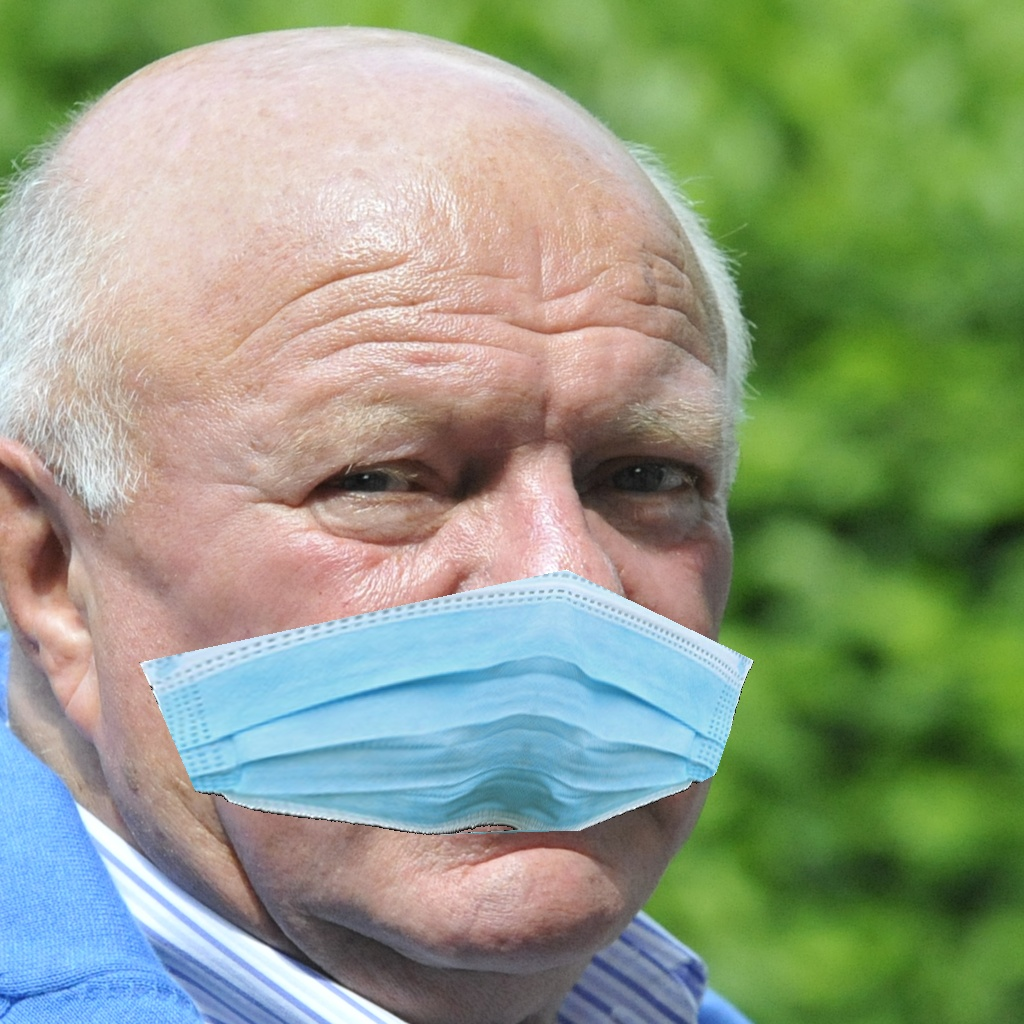mascarilla_mal_puesta: (112, 408, 727, 968)
